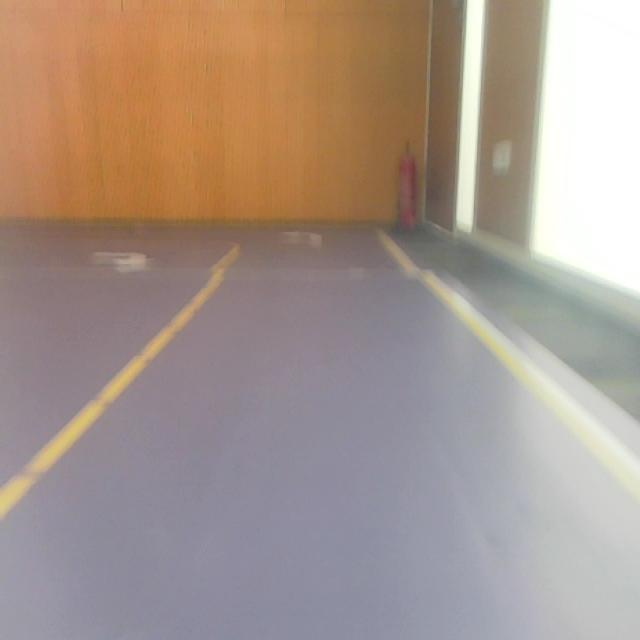left_lane: (0, 246, 240, 518)
right_lane: (376, 229, 640, 500)
